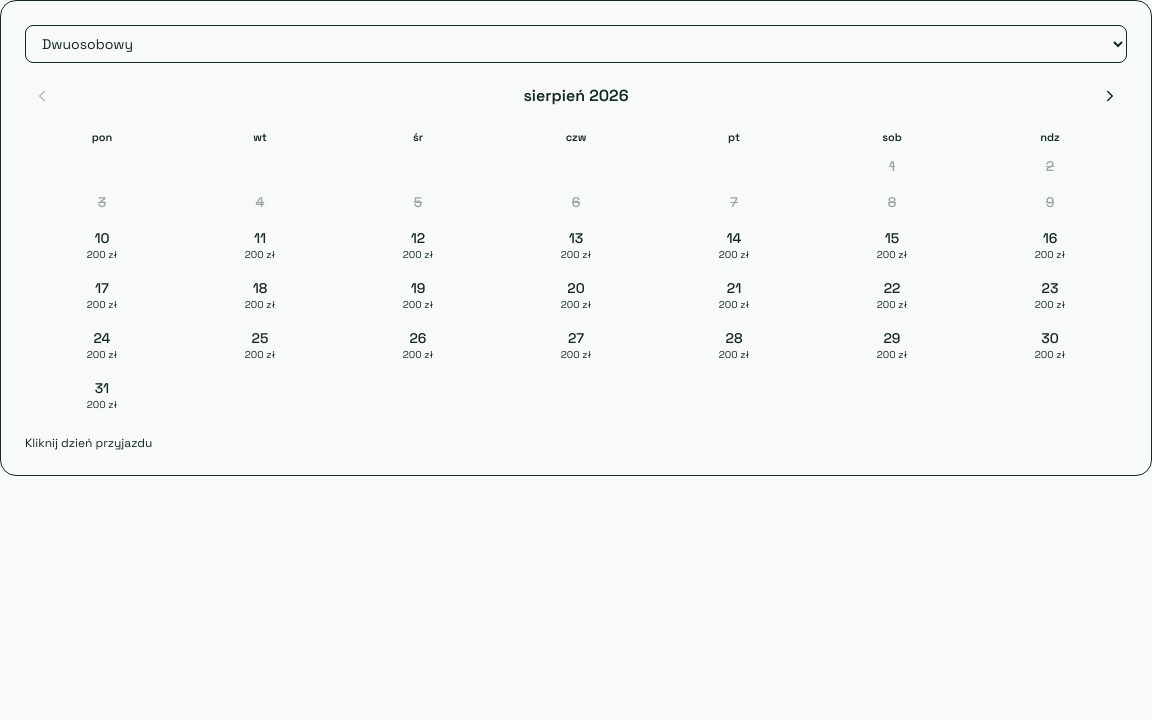
Test case: wybór terminu › trzecie kliknięcie zaczyna nowy zakres
Step 1. Click the button "12 200 zł" → (418, 245), box x1=341 y1=222 x2=495 y2=268
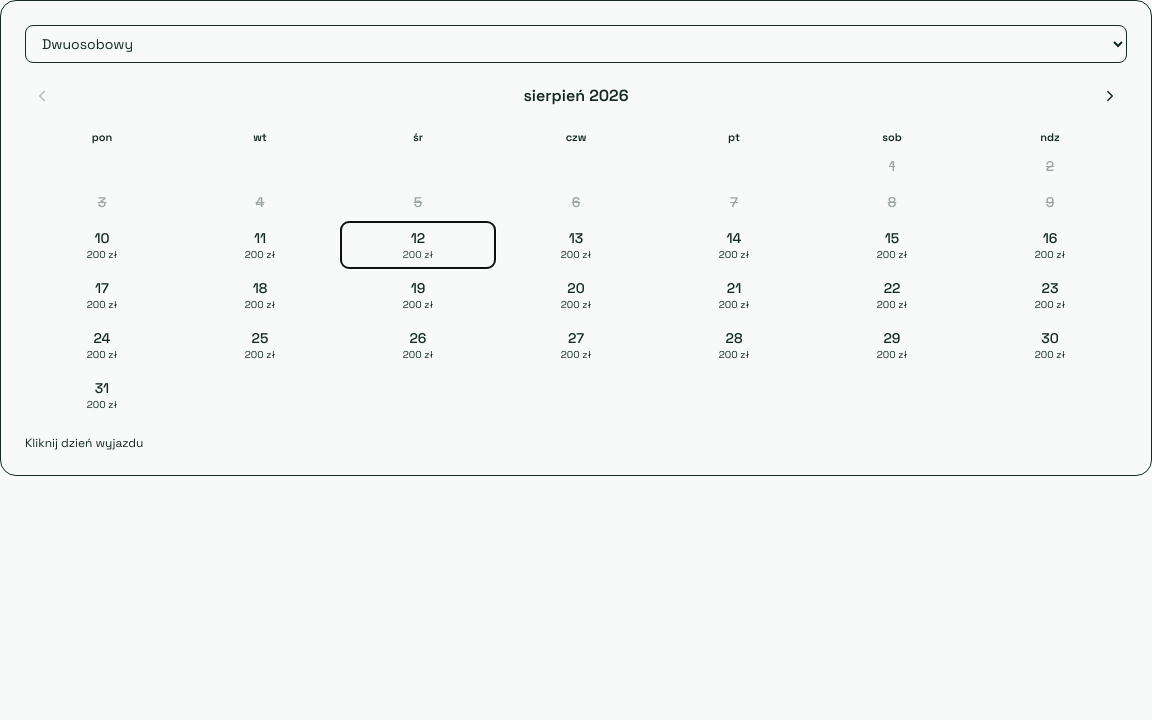
Step 2. Click the button "15 200 zł" → (892, 245), box x1=815 y1=222 x2=969 y2=268
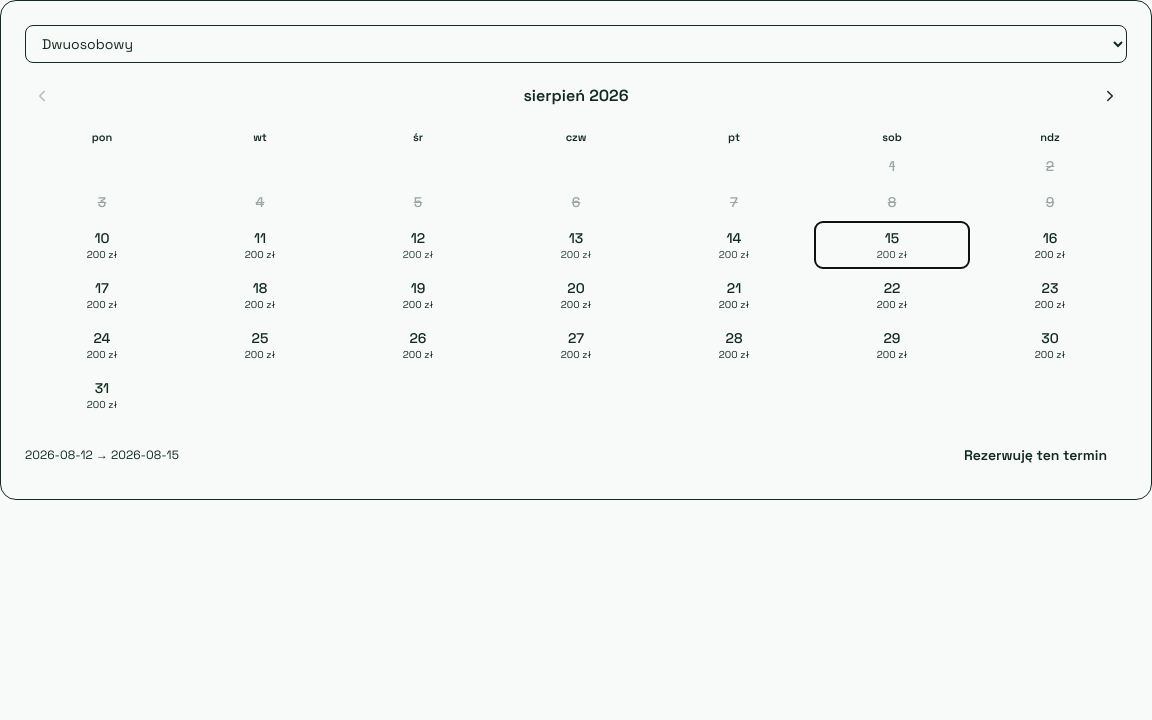
Step 3. Click the button "20 200 zł" → (576, 295), box x1=499 y1=272 x2=653 y2=318
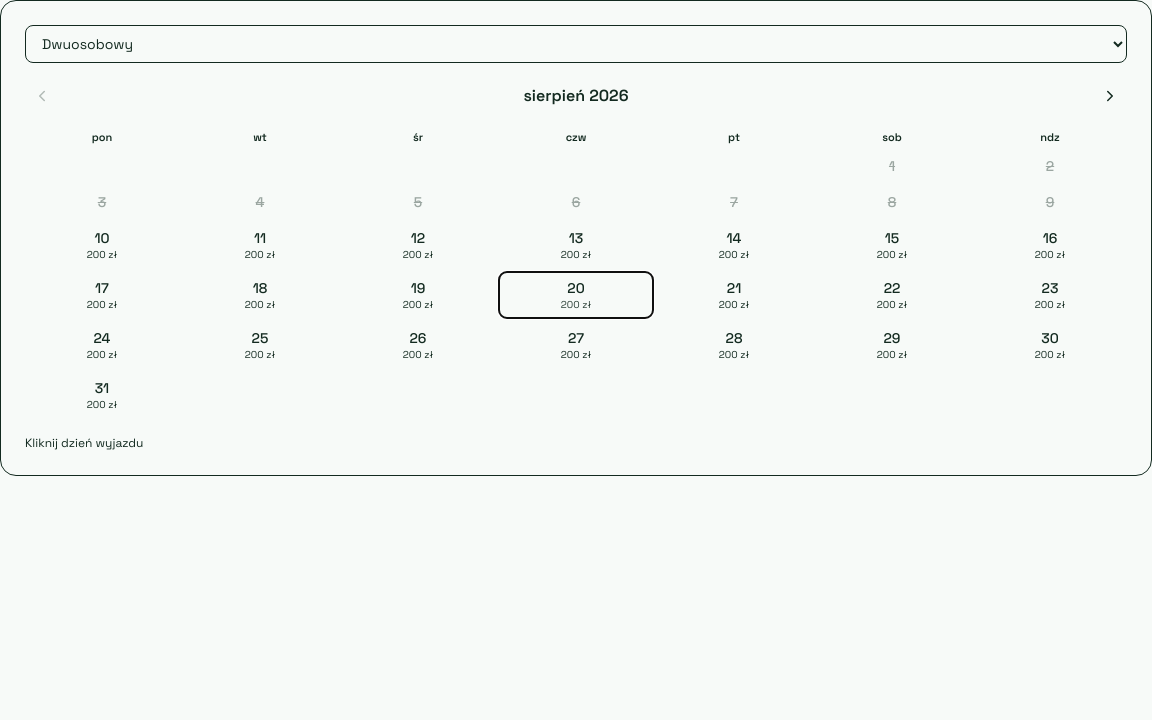
Check: the text "Kliknij dzień wyjazdu" is shown, box x1=25 y1=435 x2=143 y2=451
